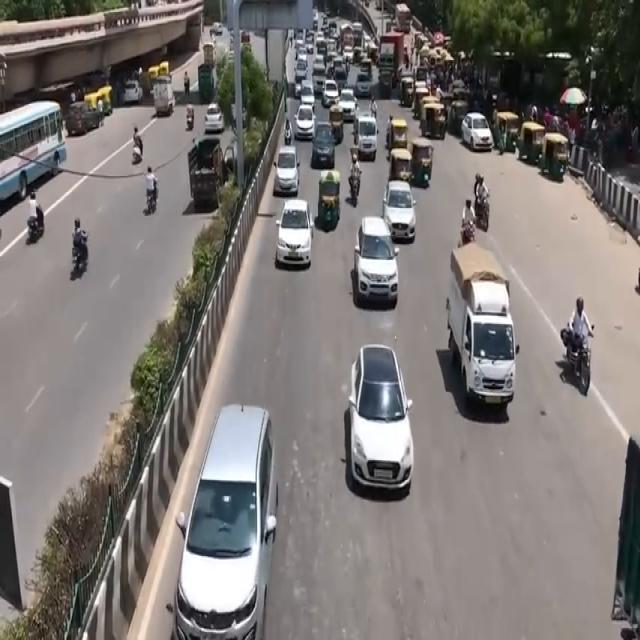BUS: (0, 100, 66, 207)
MOTORCYCLE: (576, 331, 594, 398)
TRUCK: (450, 244, 517, 420), (376, 35, 401, 98)
